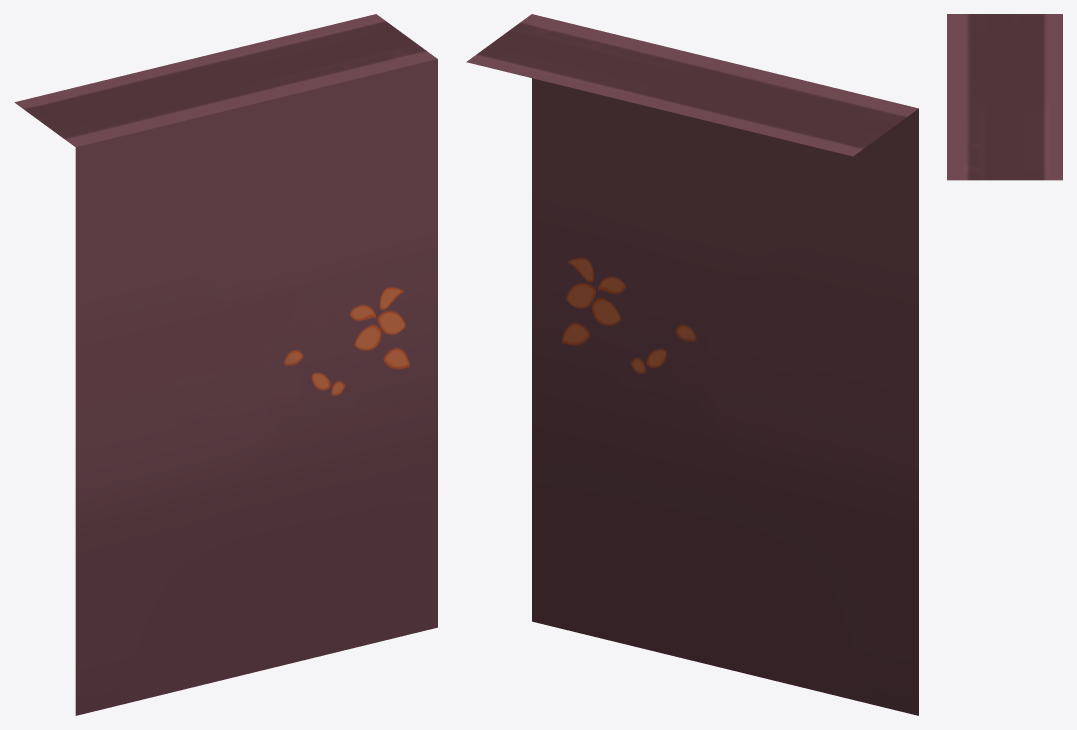
The model's file is desertWallMedium_MESH.fbx.
3 views of the same model, side by side, from view 1: azimuth 30°, elevation 25°; view 2: azimuth 150°, elevation 25°; view 3: azimuth 270°, elevation 25° (orthographic). The views are drawn at different scales.
Visible parts, largest first — view 1: Desert_WallM; view 2: Desert_WallM; view 3: Desert_WallM.
Part boxes in pixels (left/top/right/bottom): Desert_WallM: left=14, top=14, right=437, bottom=715; Desert_WallM: left=466, top=14, right=918, bottom=715; Desert_WallM: left=947, top=14, right=1062, bottom=180.
Size of the model in its own units: 100 by 150 by 29.44.
1 material, 1 textured.
